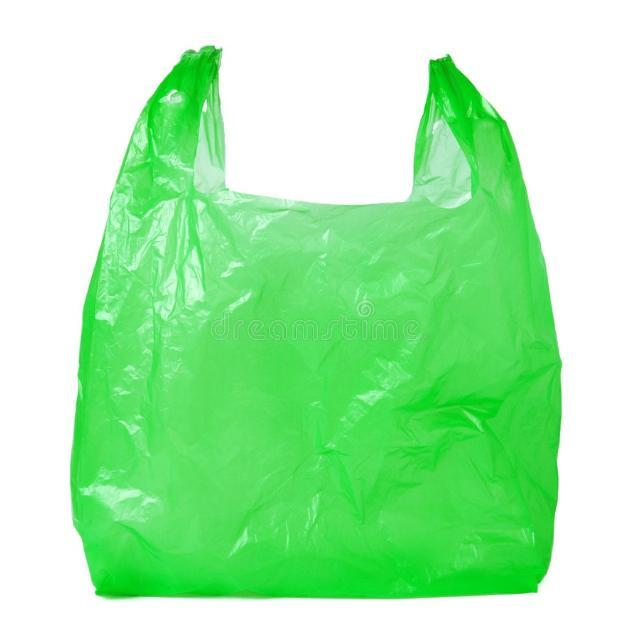plastic: (71, 46, 560, 597)
